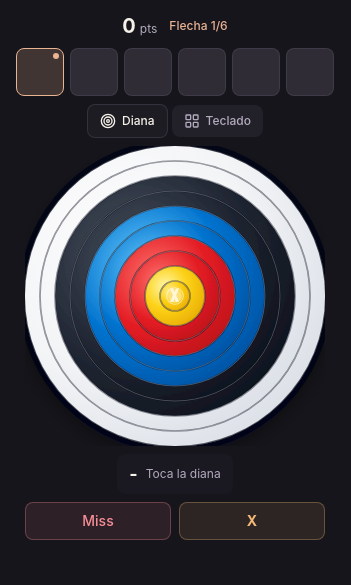
Test: EndInput › score flow from TargetFace › records score when clicking X button
Note: Click the X button
Click the button named "diez de oro".
click(252, 521)  # box top-left (179, 502), bottom-right (325, 540)
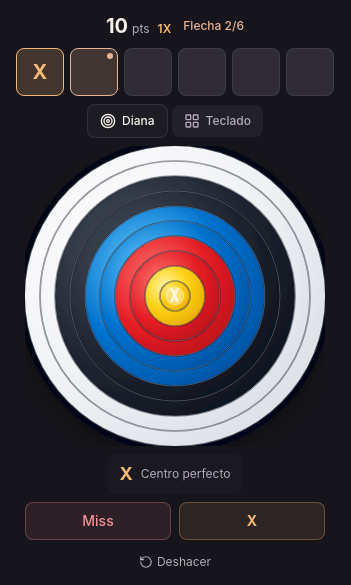
Expected: the button named "flecha" reads "X", top-left (16, 48), bottom-right (64, 96)
